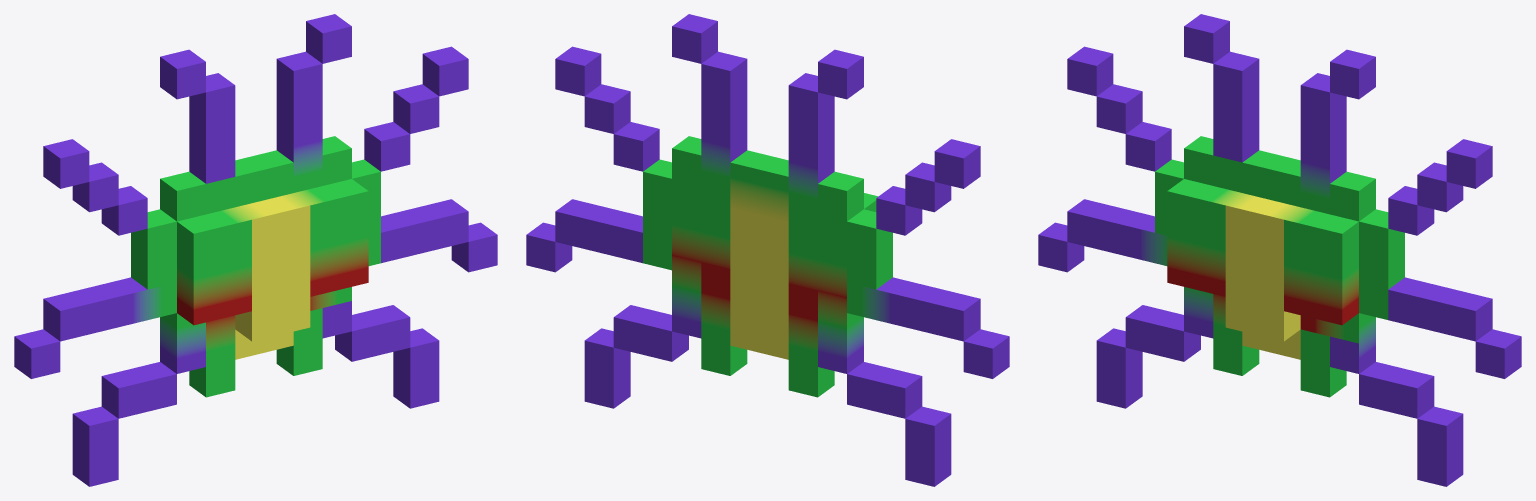
The model's file is Matrix_16.fbx.
3 renders of one model, left to right at view 1: azimuth 30°, elevation 25°; view 2: azimuth 150°, elevation 25°; view 3: azimuth 330°, elevation 25°, orthographic.
Parts seen in each view (by area): view 1: Matrix_16; view 2: Matrix_16; view 3: Matrix_16.
Boxes of the visible parts, <box> form: Matrix_16: <box>14,14,497,486</box>; Matrix_16: <box>526,14,1009,486</box>; Matrix_16: <box>1038,14,1521,486</box>.
Size of the model in its own units: 16 by 13 by 2.
